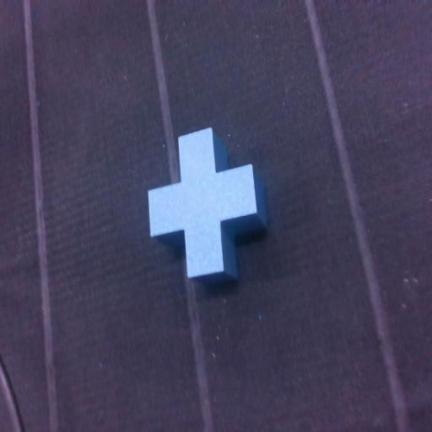cross: (149, 129, 266, 281)
